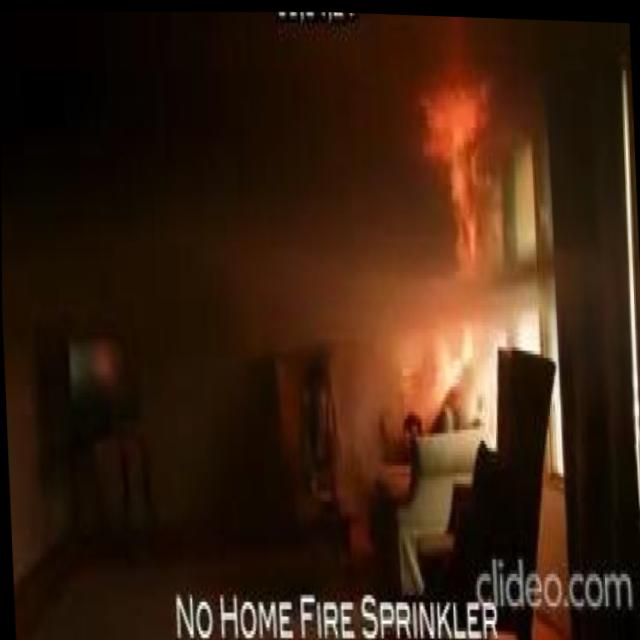fire: (413, 71, 497, 277), (424, 320, 478, 402)
